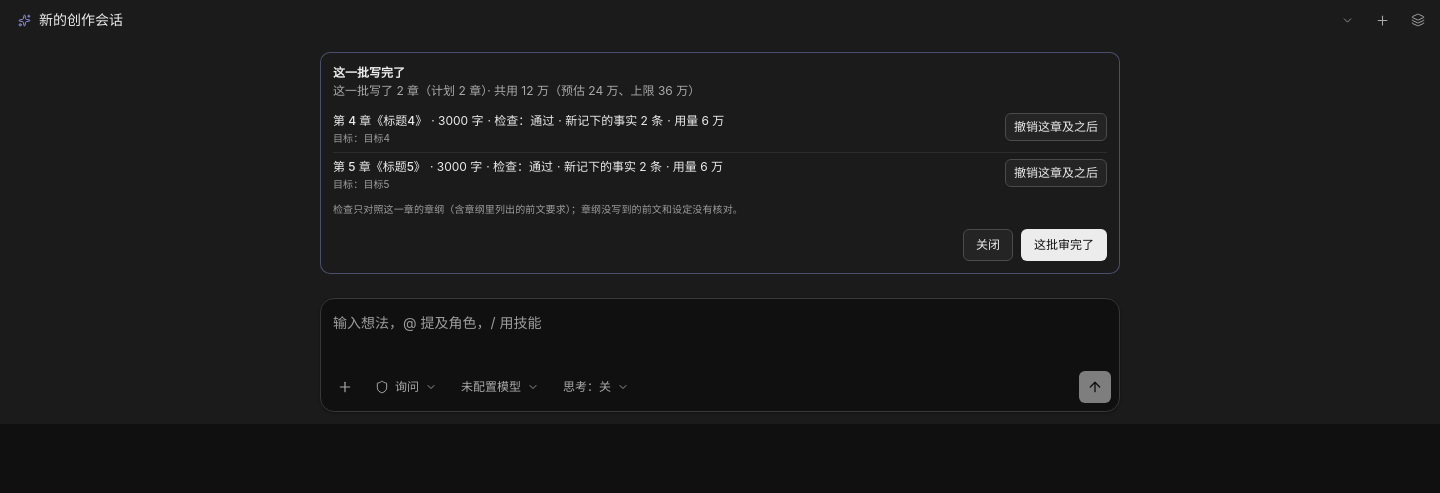
Test case: 台账没能恢复、记录没记上：删了的照实说，错误留在卡上
Click the button "撤销这章及之后" in the row of "目标5": (1056, 173) left=1005, top=159, right=1107, bottom=187
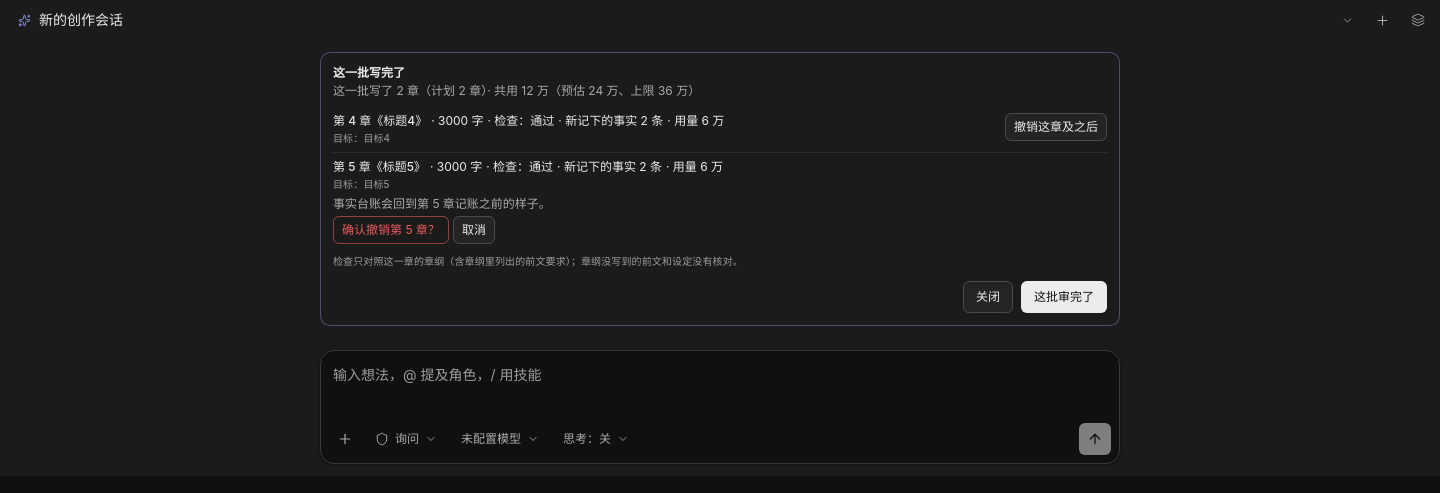
Click the button "确认撤销第 5 章？": (391, 230) left=333, top=216, right=449, bottom=244
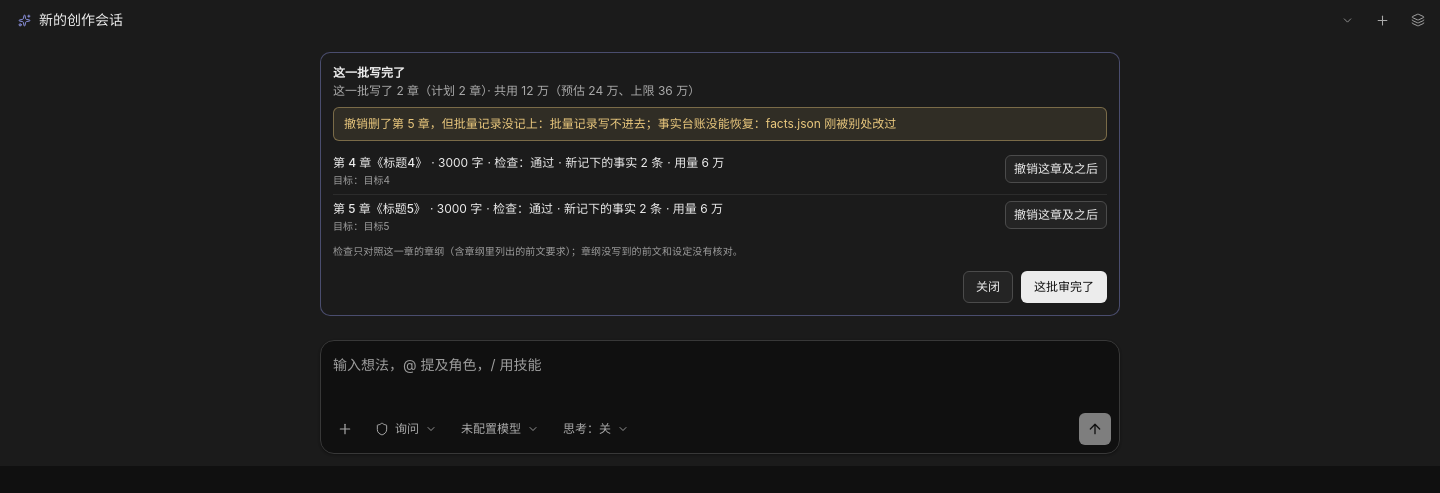
Check: the text "撤销删了第 5 章，但批量记录没记上：批量记录写不进去；事实台账没能恢复：facts.json 刚被别处改过" is shown, box left=333, top=107, right=1107, bottom=141
